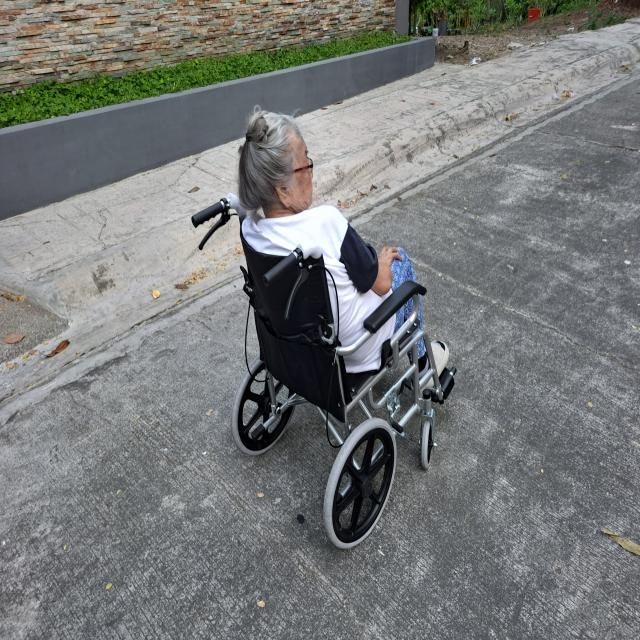wheelchairs: (186, 200, 469, 562)
